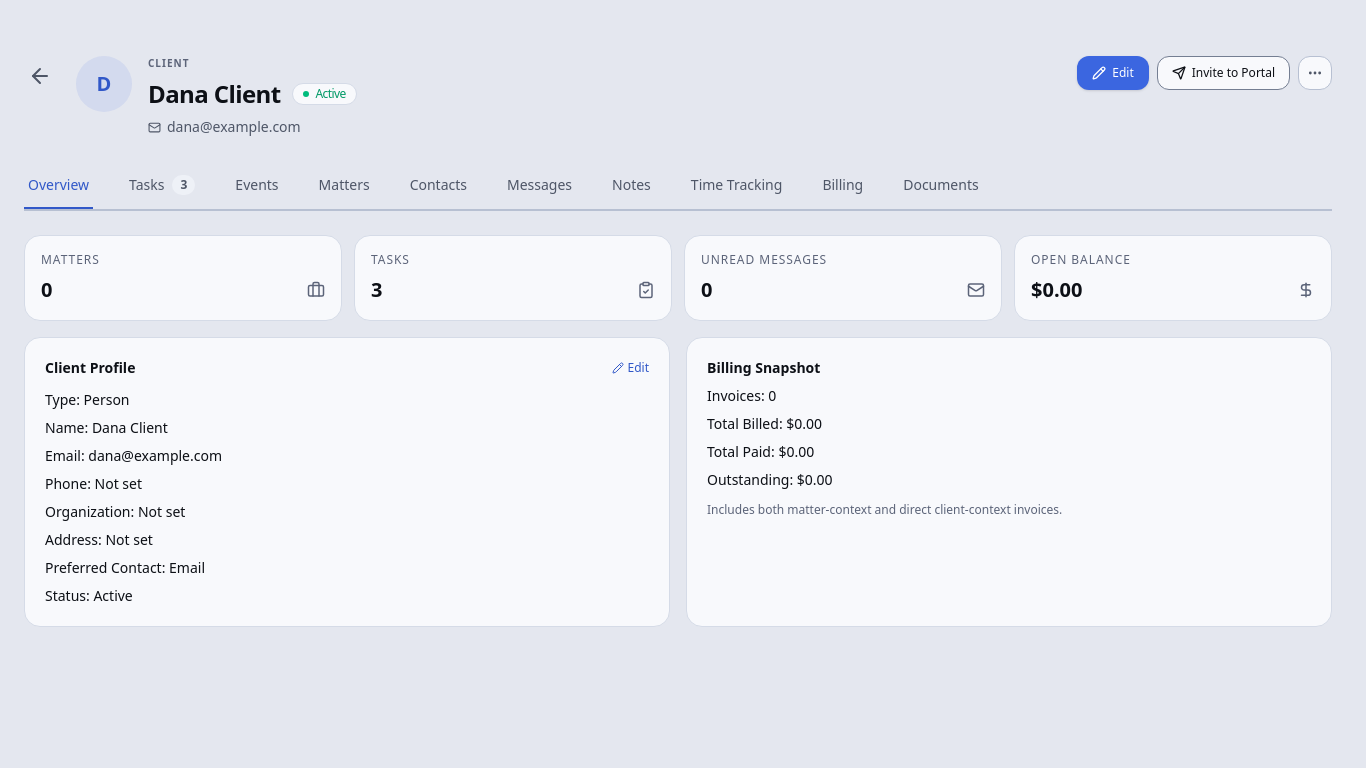
Test: deleting a task from the client page › refreshes the All count after deleting a task under a status filter
Expected: the heading "Dana Client Active" is shown, 148,77 -> 357,110
Click the 1st button "Tasks 3".
click(162, 186)  # box 125,163 -> 199,209
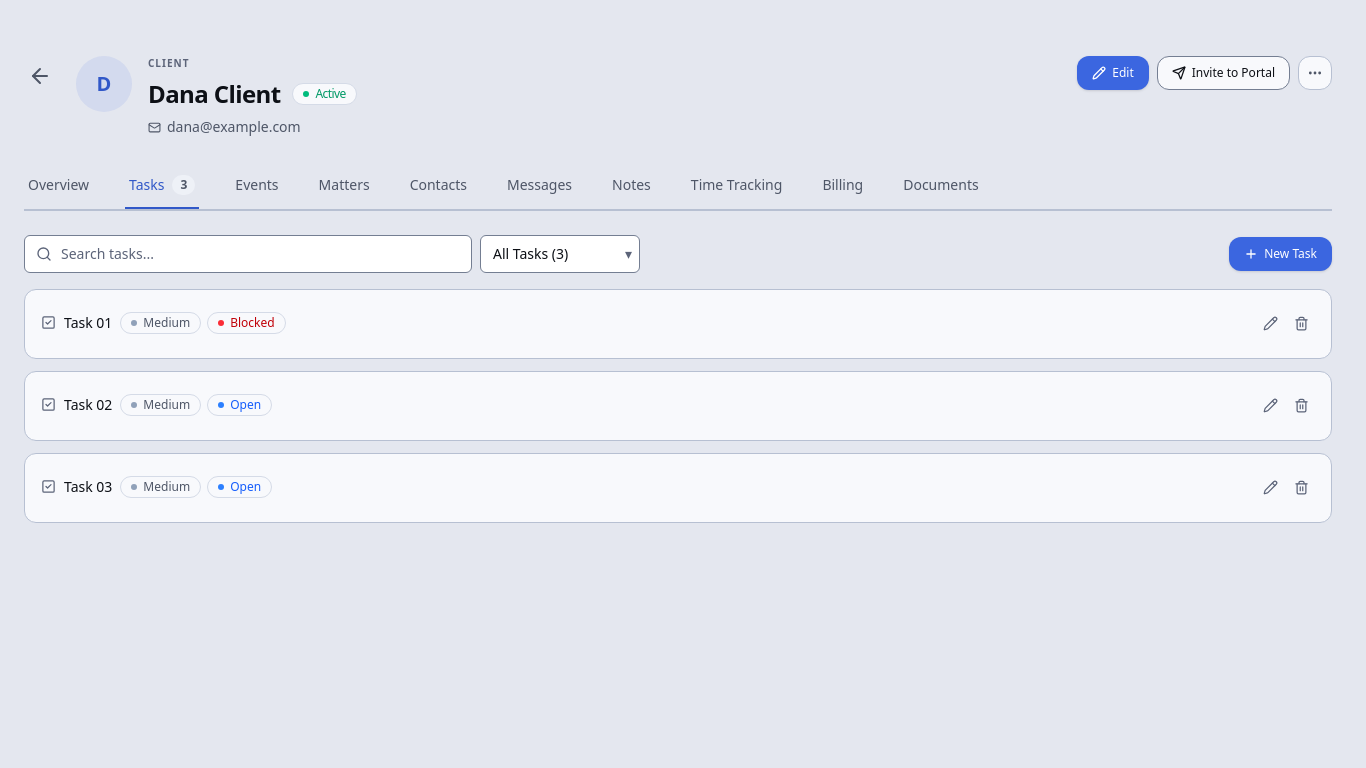
Result: the text "Task 01" is shown at 41,313 -> 112,333
Click the button "All Tasks (3) ▾".
click(560, 254)  # box 480,235 -> 640,273
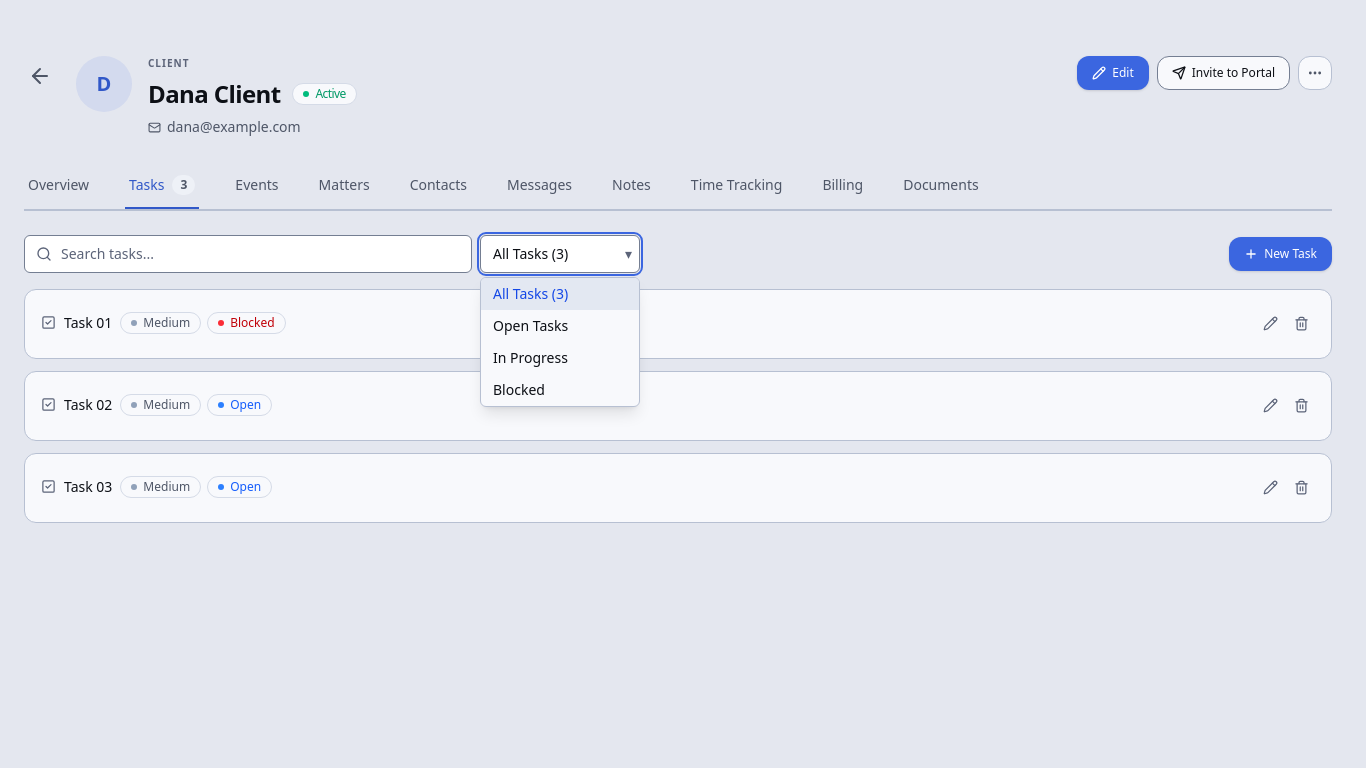
Click the option "Blocked".
click(519, 389)  # box 493,380 -> 545,399
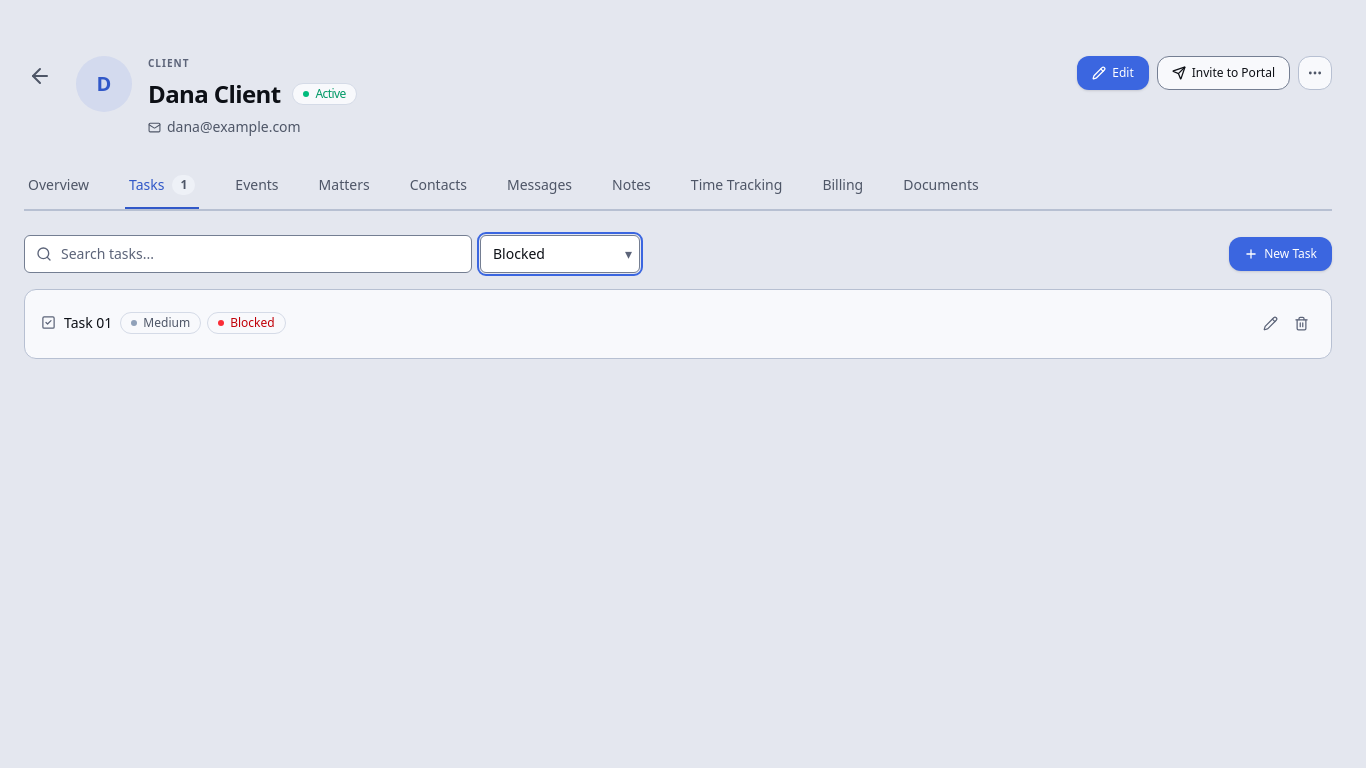
Click the button named "Delete Task 01".
click(1302, 324)  # box 1288,310 -> 1315,337
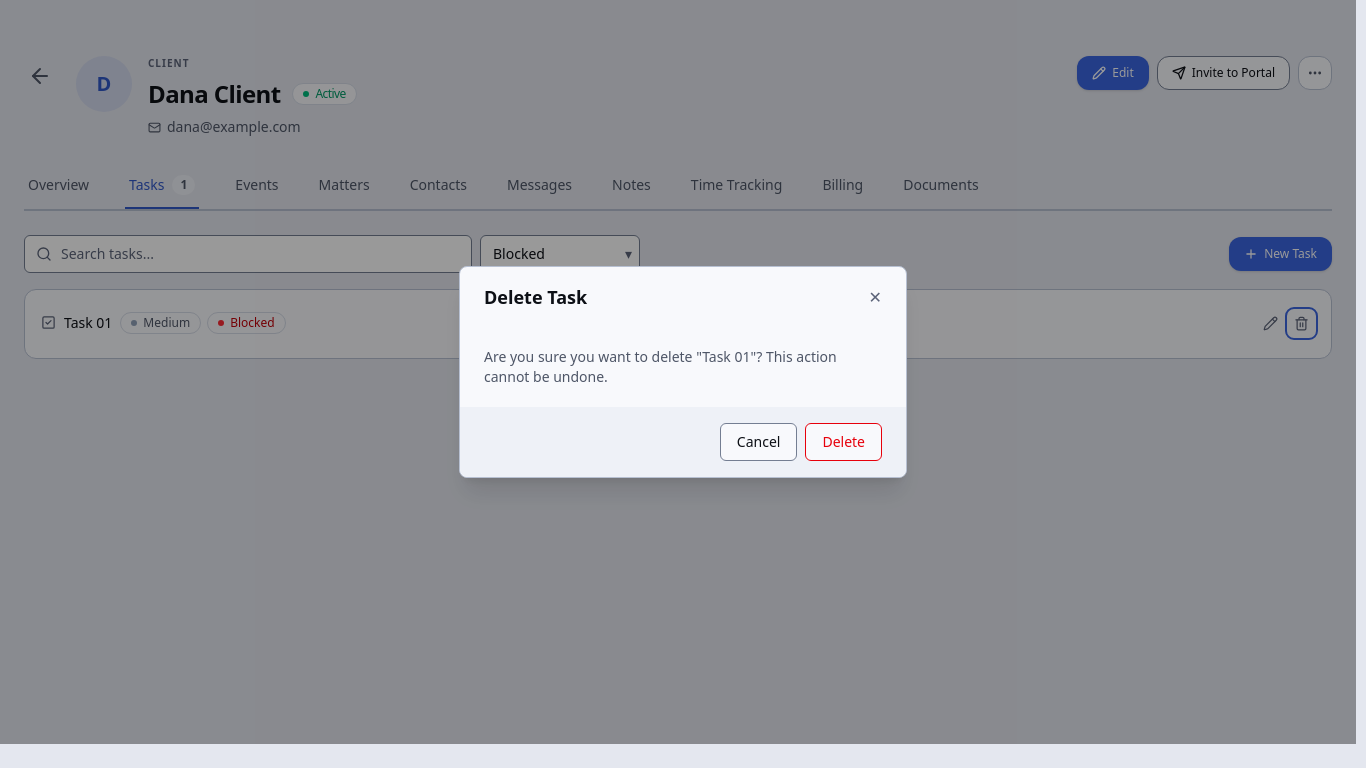
Click the button "Delete".
click(844, 442)  # box 805,423 -> 882,461
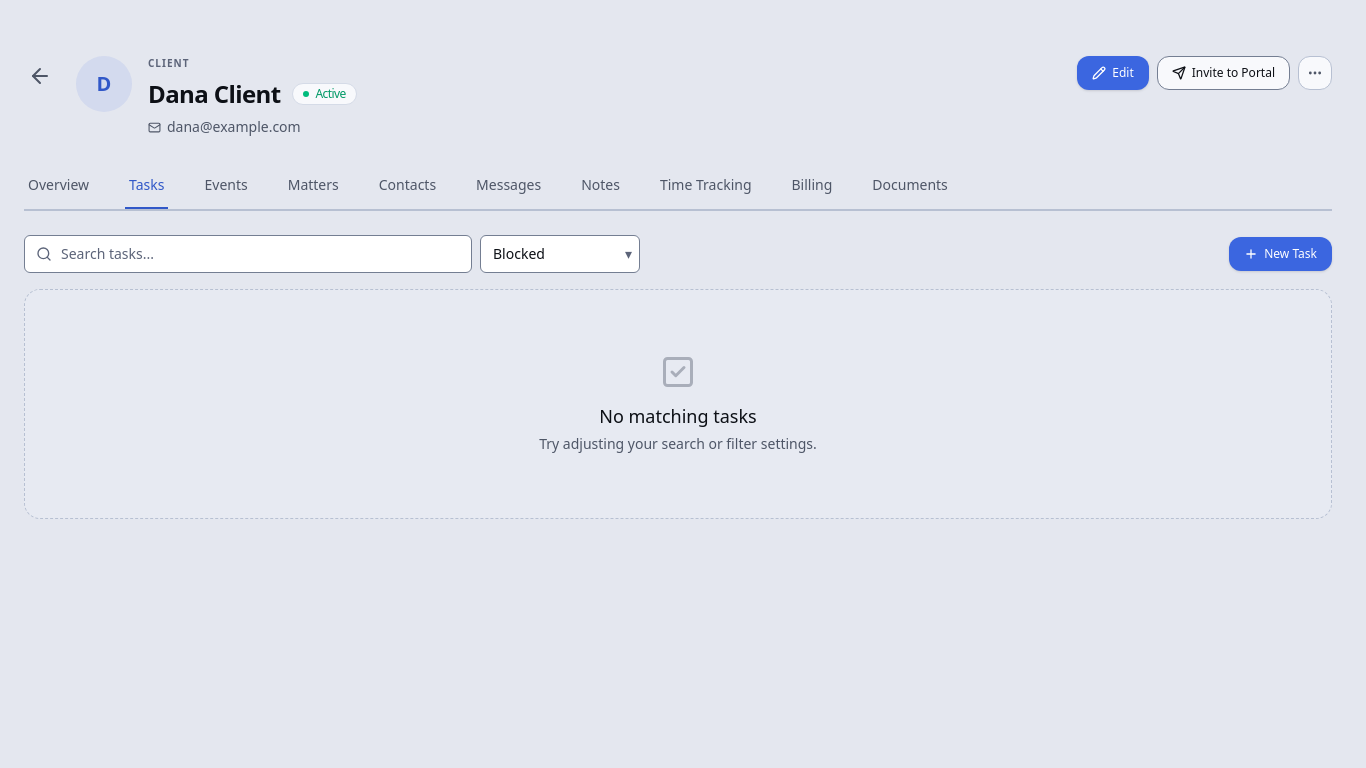
Result: the text "Task 01" is gone
Click the button "Blocked ▾".
click(560, 254)  # box 480,235 -> 640,273
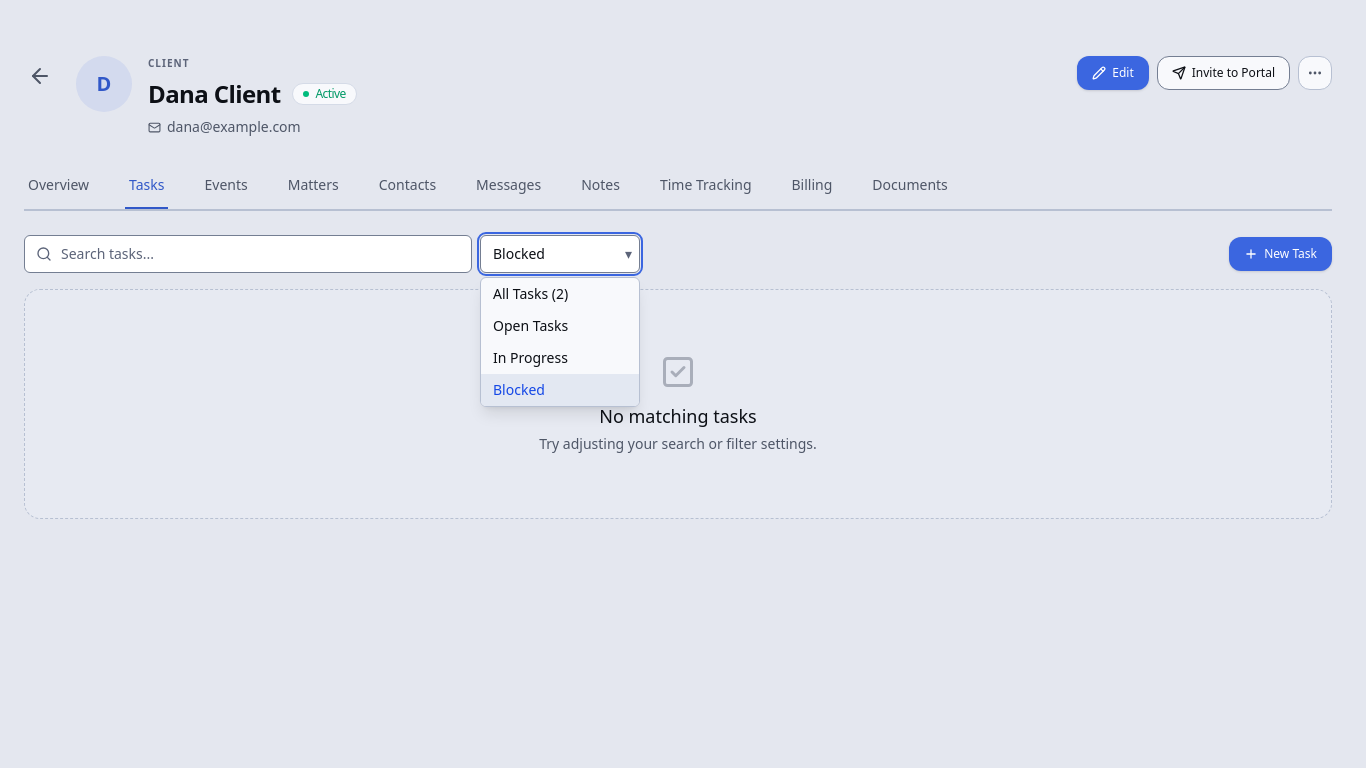
Result: the option "All Tasks (2)" is shown at 493,284 -> 568,303
